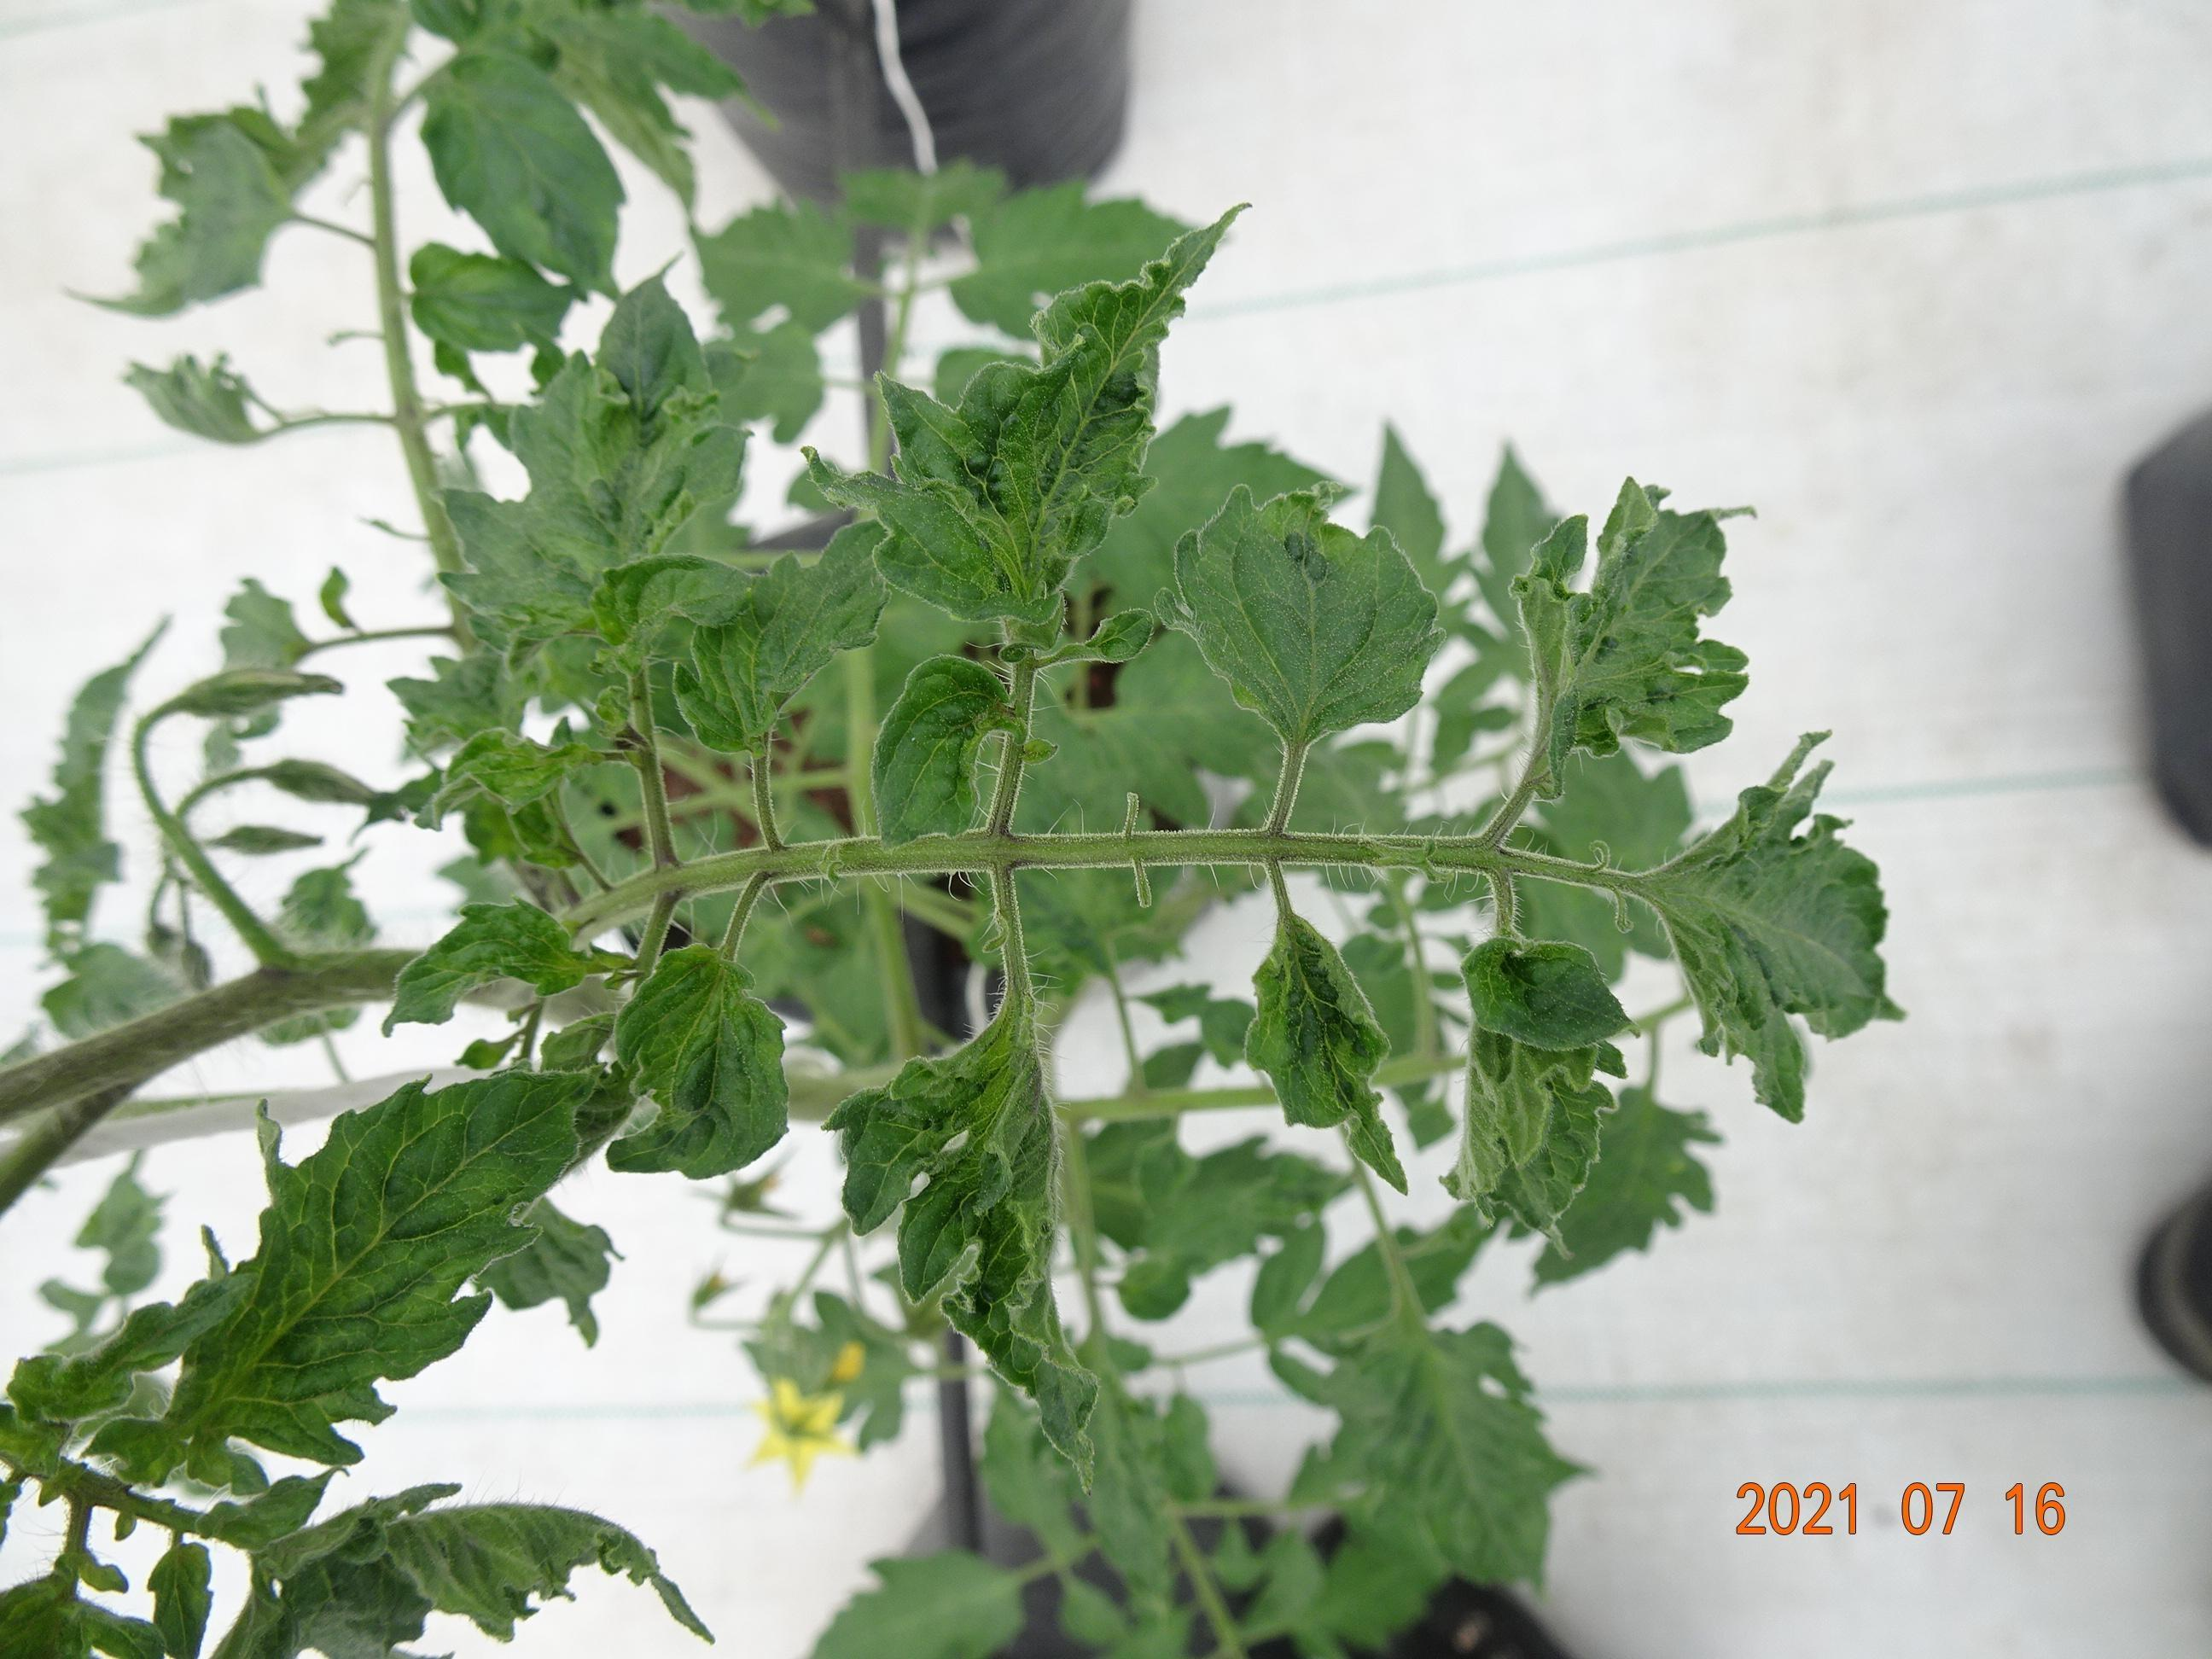Rugose leaf: (820, 207, 1232, 643), (163, 1071, 587, 1465), (1161, 487, 1442, 753), (1246, 864, 1406, 1191), (605, 943, 786, 1178), (1039, 609, 1159, 666)
Rugose stem: (639, 894, 680, 974)
